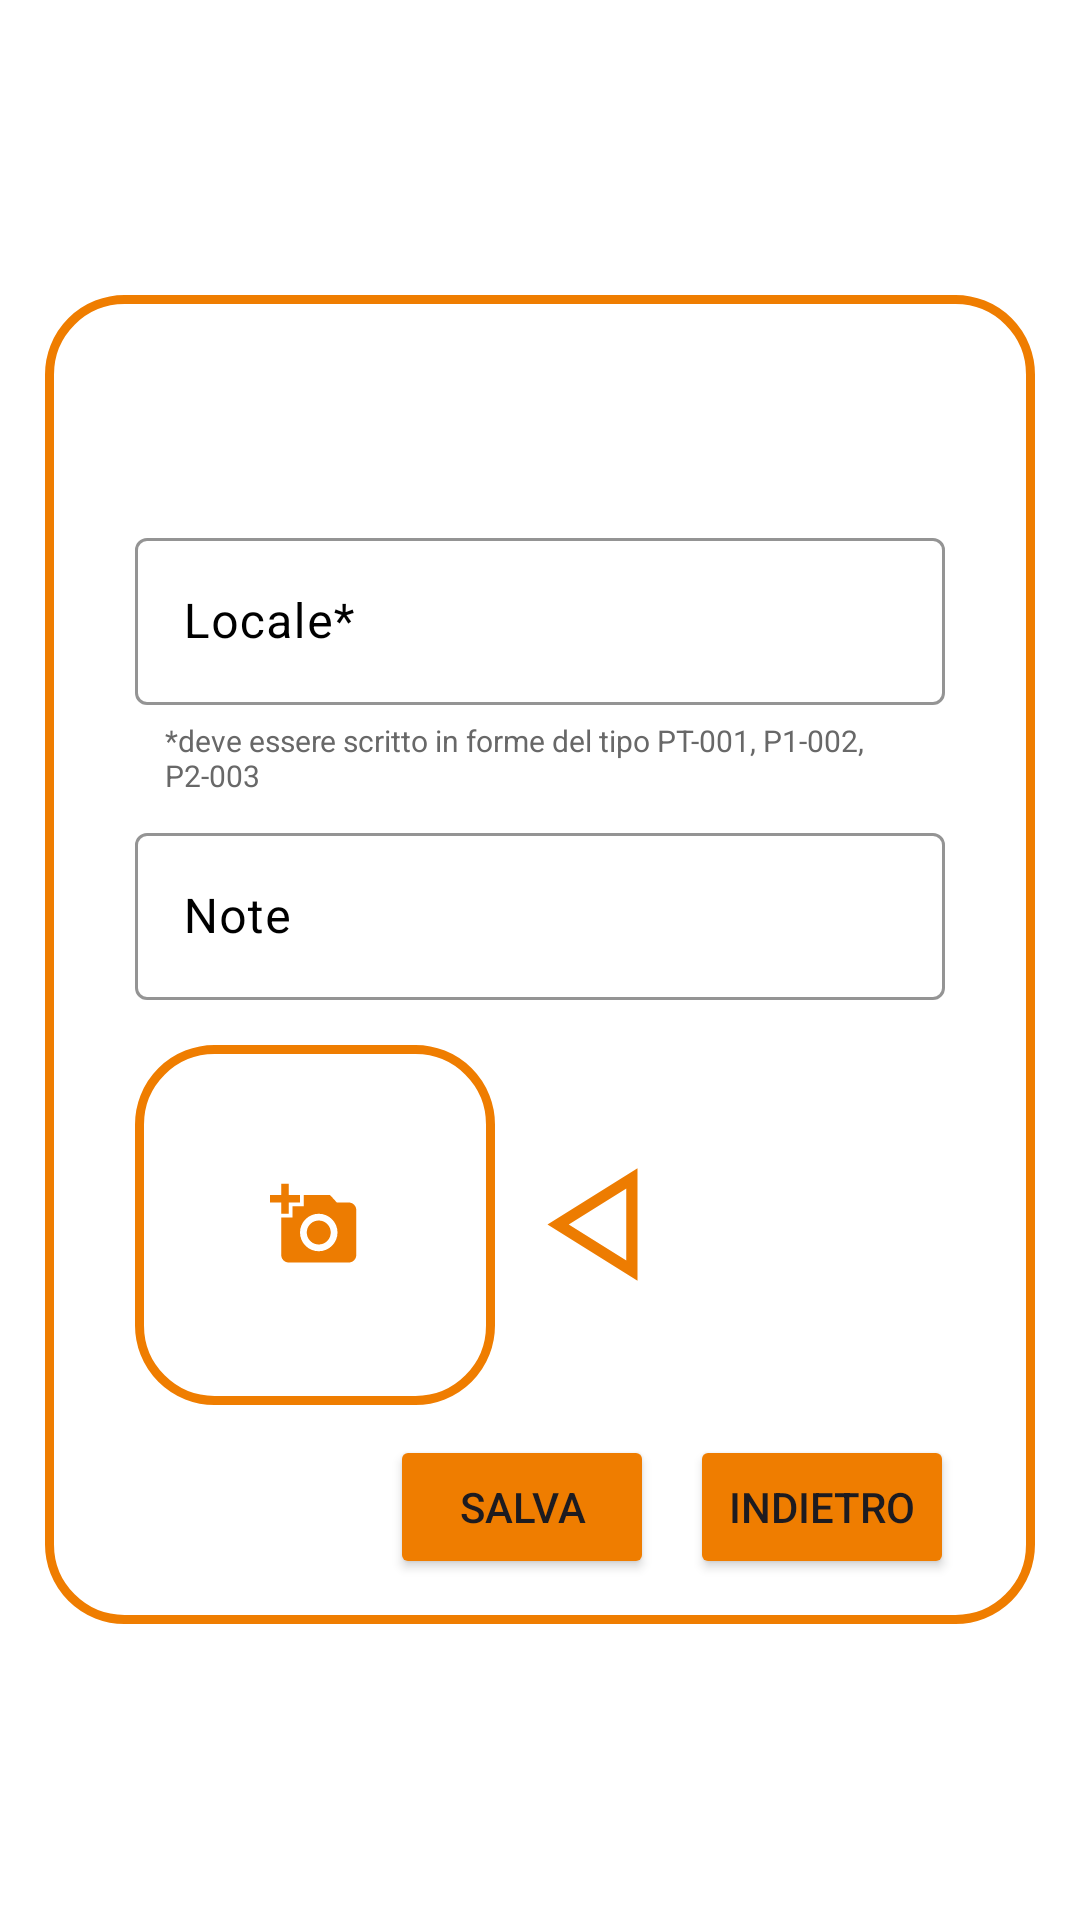

Screen size 1080*1920. Icon name, then its center in pixels as point (x, y):
add photo: point (313, 1223)
